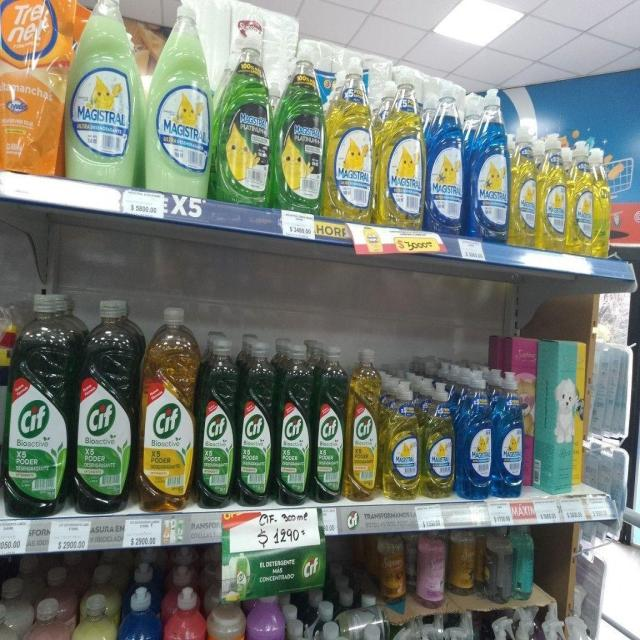ala_crem_amarillo: (67, 592, 114, 640), (0, 603, 21, 640)
ala_ultra_rosa: (163, 586, 204, 640)
cif_conc_bot_amarilla: (139, 303, 195, 512), (346, 347, 380, 501)
cif_conc_botella_verde: (6, 290, 71, 516), (75, 298, 136, 513), (197, 333, 236, 508), (238, 338, 274, 507), (276, 340, 311, 505), (313, 343, 345, 503)
magistral_con_amarillo: (326, 53, 374, 221), (378, 68, 423, 229), (385, 379, 421, 500), (422, 380, 454, 499), (539, 132, 567, 252), (511, 118, 537, 247), (568, 138, 593, 256), (593, 143, 609, 258), (281, 618, 314, 640)
magistral_con_azul: (468, 90, 508, 242), (426, 81, 464, 236), (456, 371, 492, 500), (494, 372, 524, 498)
